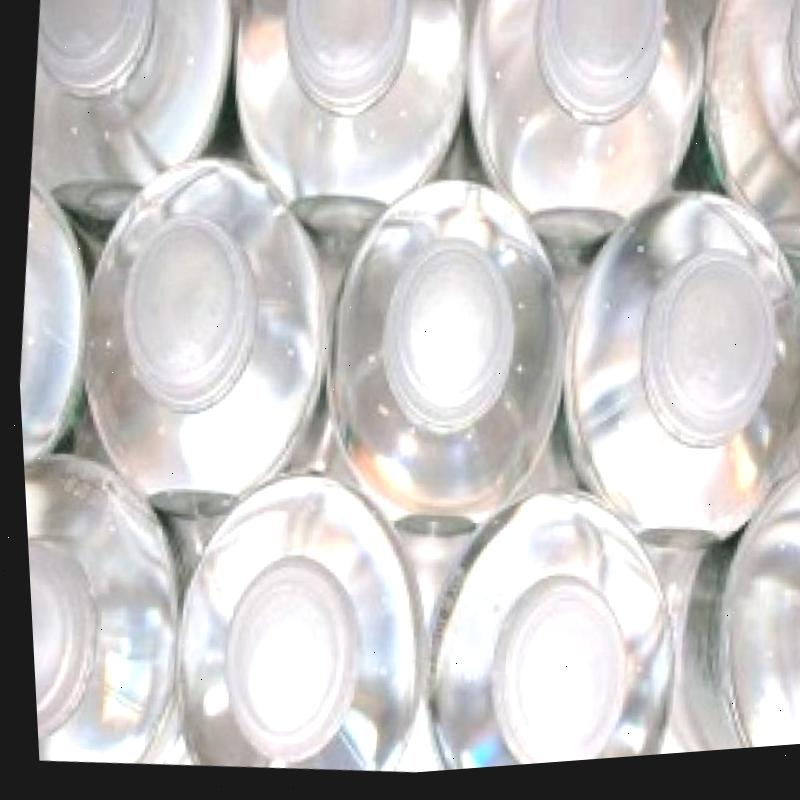botella: (52, 140, 356, 553), (298, 158, 587, 569), (138, 449, 437, 793), (551, 190, 800, 579), (392, 473, 695, 778), (434, 0, 725, 289), (201, 0, 482, 258), (18, 425, 200, 774), (17, 0, 241, 237), (663, 468, 800, 763), (7, 177, 111, 531), (681, 0, 800, 277)
